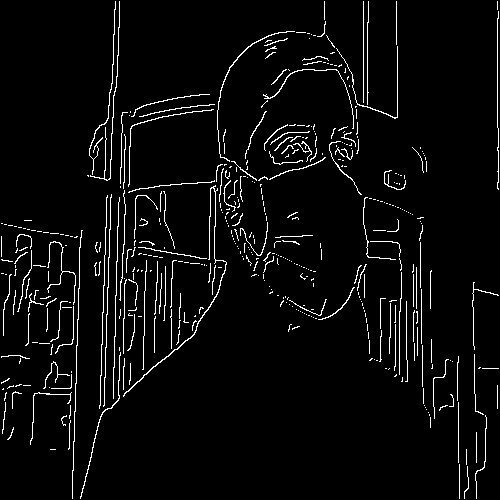mask: (251, 160, 376, 322)
